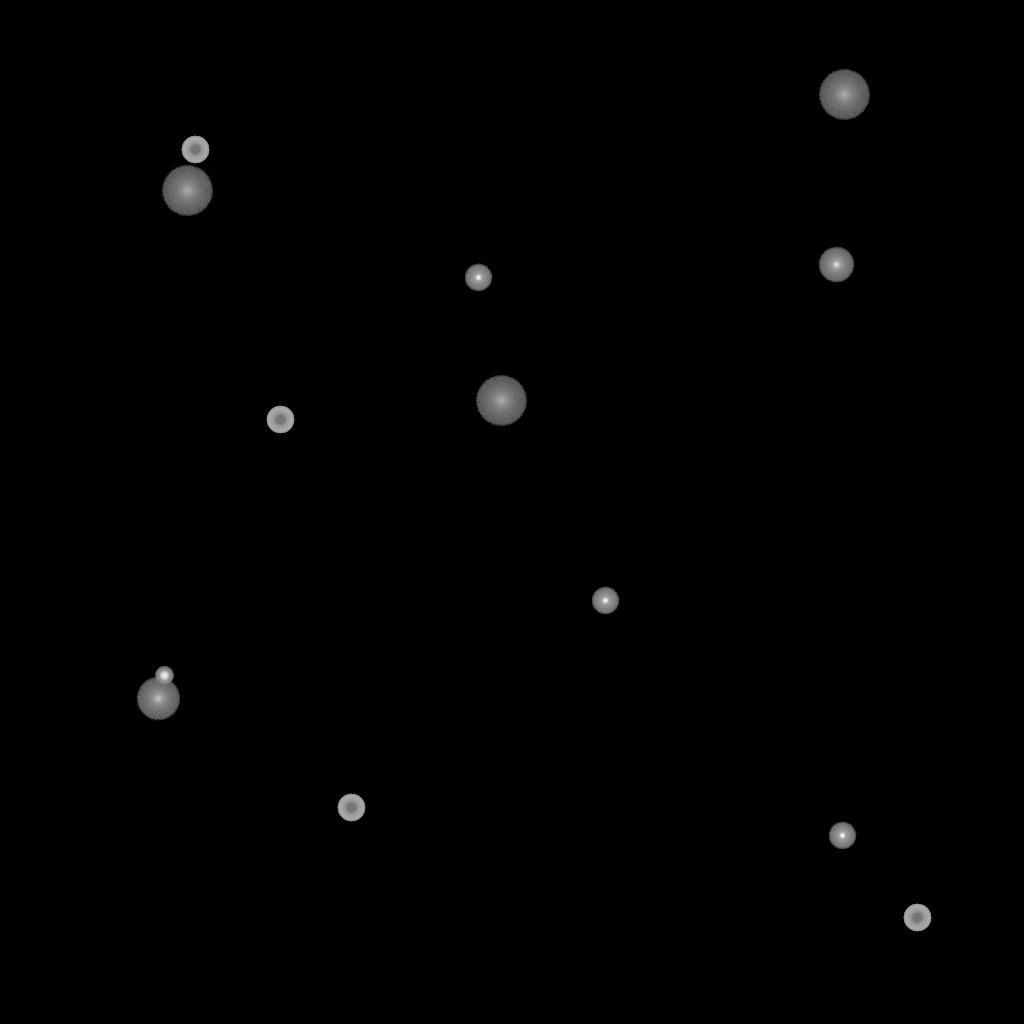depth:-10: (464, 264, 492, 292), (828, 822, 856, 850), (591, 587, 619, 615)
depth:-20: (155, 667, 173, 685)
depth:-50: (903, 904, 931, 932), (266, 406, 294, 434), (181, 136, 209, 164), (337, 794, 365, 822)
depth:0: (818, 247, 854, 283)
depth:10: (136, 677, 180, 721)
depth:20: (818, 70, 870, 120), (161, 166, 213, 216), (475, 376, 527, 426)
